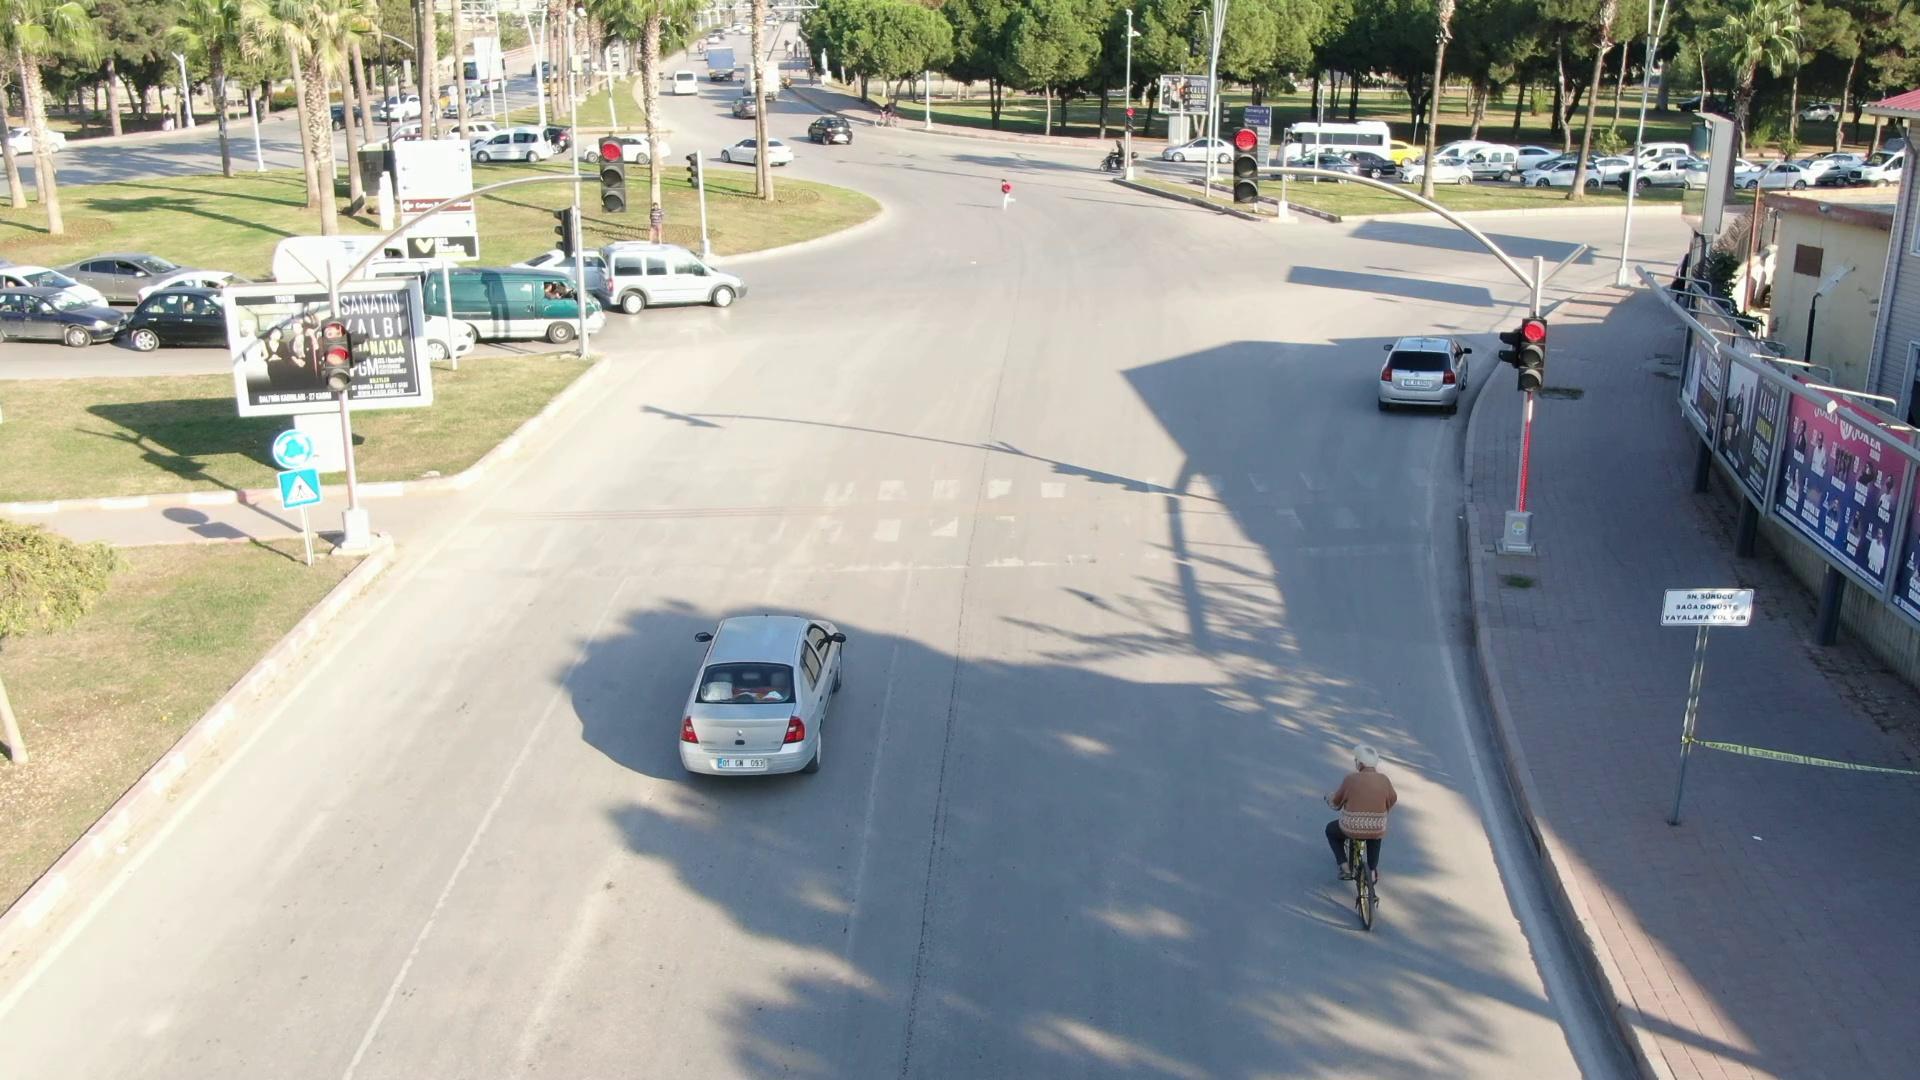car: (597, 556, 943, 852), (415, 264, 650, 360), (1339, 310, 1493, 452), (598, 237, 785, 332), (794, 107, 871, 165)
person: (1320, 729, 1427, 852)
